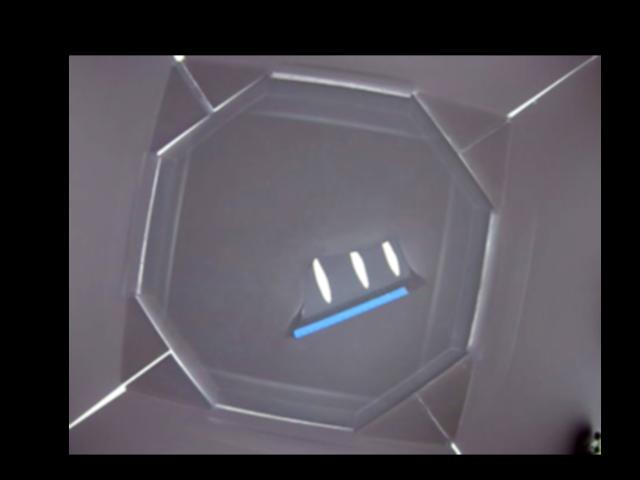China: (285, 238, 423, 340)
